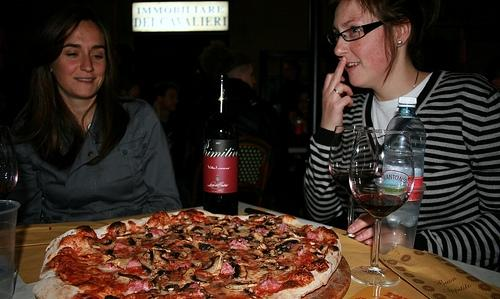mushroom: (136, 250, 174, 280), (268, 238, 304, 262), (199, 256, 224, 276), (182, 267, 208, 283), (106, 256, 134, 270), (225, 280, 258, 291), (161, 250, 188, 262), (262, 217, 283, 231), (263, 231, 282, 246), (152, 248, 170, 263), (113, 272, 143, 281), (276, 262, 296, 272), (96, 240, 116, 250), (231, 228, 253, 237), (194, 240, 212, 251), (233, 264, 247, 278), (206, 216, 230, 224), (159, 281, 178, 291), (248, 232, 263, 244), (131, 234, 160, 240), (126, 238, 142, 248), (152, 244, 171, 252), (248, 249, 264, 258), (190, 258, 202, 268), (102, 254, 116, 262), (117, 230, 134, 236), (320, 244, 328, 254), (187, 224, 196, 232), (256, 244, 268, 250), (211, 228, 222, 234), (238, 263, 250, 268), (172, 225, 184, 230), (183, 247, 192, 253), (192, 227, 202, 232), (196, 232, 202, 236)
